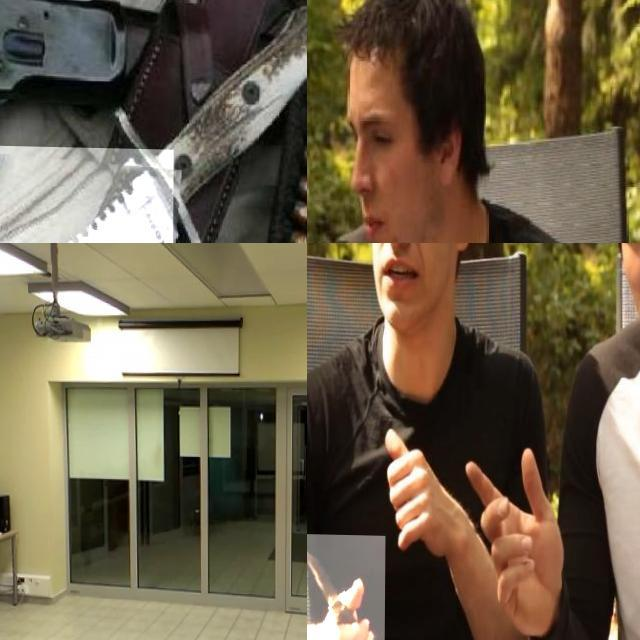-: (0, 140, 208, 243), (307, 533, 386, 640)
